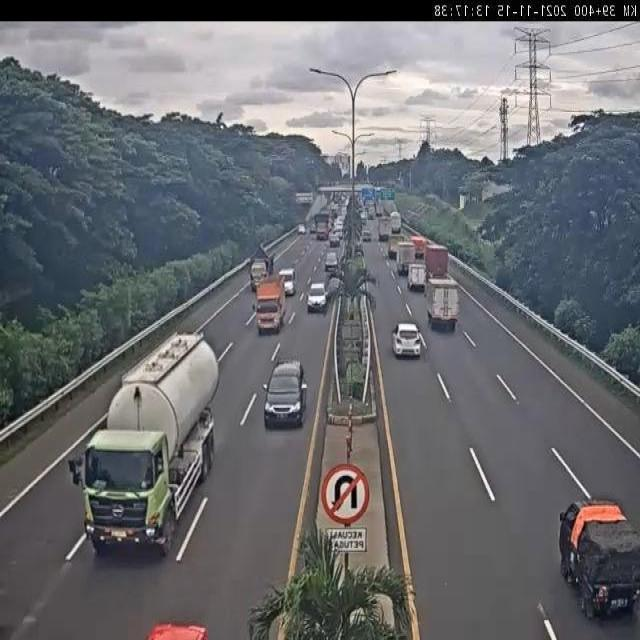Car: (557, 499, 640, 621), (263, 359, 310, 431), (391, 322, 422, 358), (306, 281, 328, 313), (279, 268, 296, 297), (325, 252, 339, 272), (329, 231, 340, 247), (362, 229, 372, 243), (298, 224, 307, 235)
Truck: (68, 329, 219, 557), (425, 278, 458, 331), (255, 274, 285, 332), (397, 242, 417, 274), (408, 263, 426, 292)
